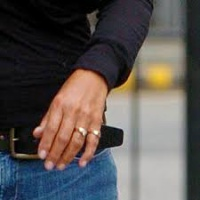ring: (58, 114, 86, 177)
